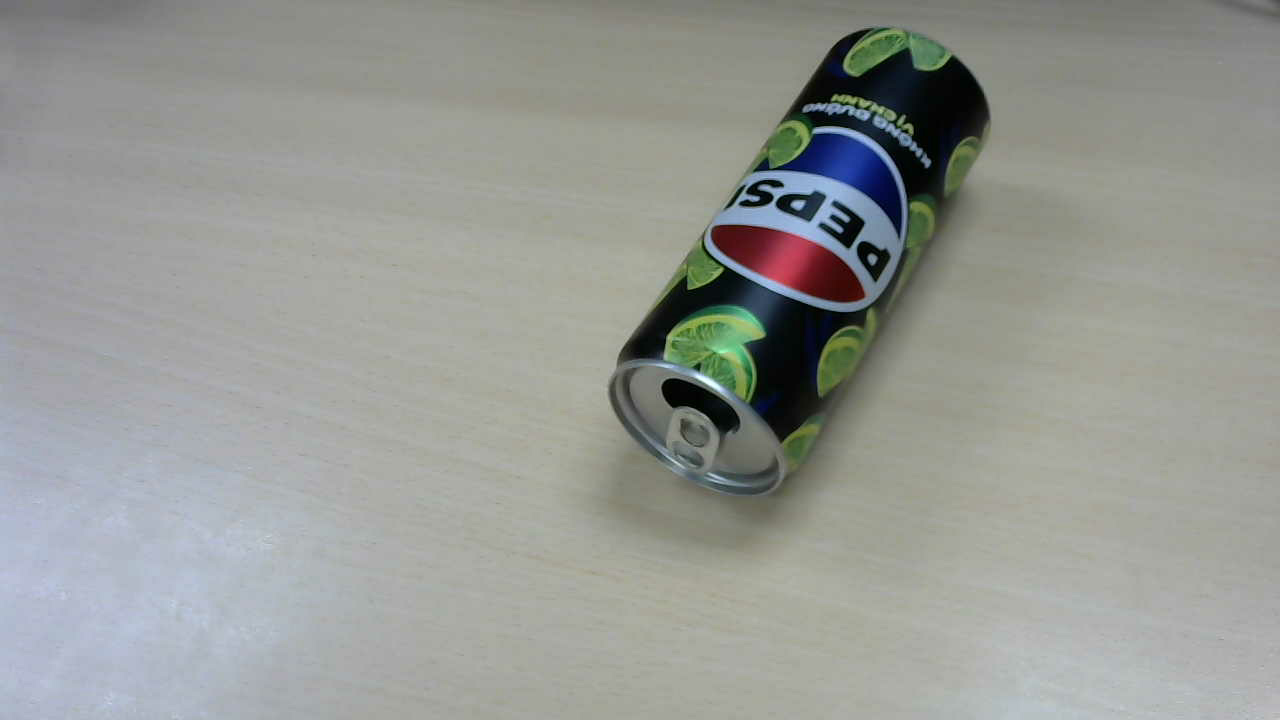Pepsi: (625, 29, 1011, 498)
